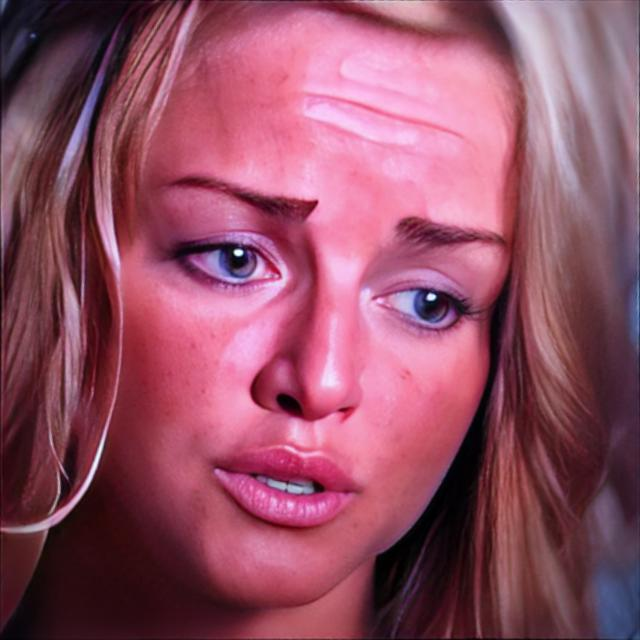sad: (81, 6, 530, 606)
